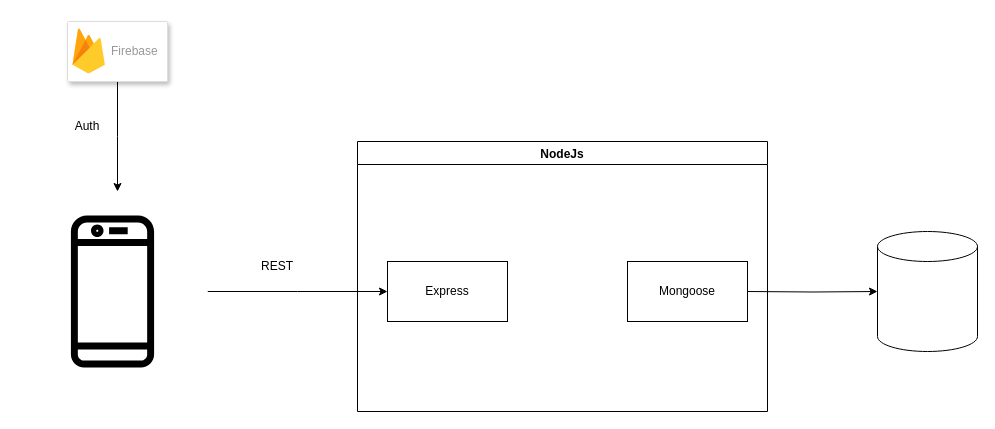
Some shapes in this 995 by 429 pixel diagram are drawn without their labels. The centre of each missing label's shape, as x and y in pixels:
Mobile client: point (112, 291)
MongoDB: point (927, 291)
